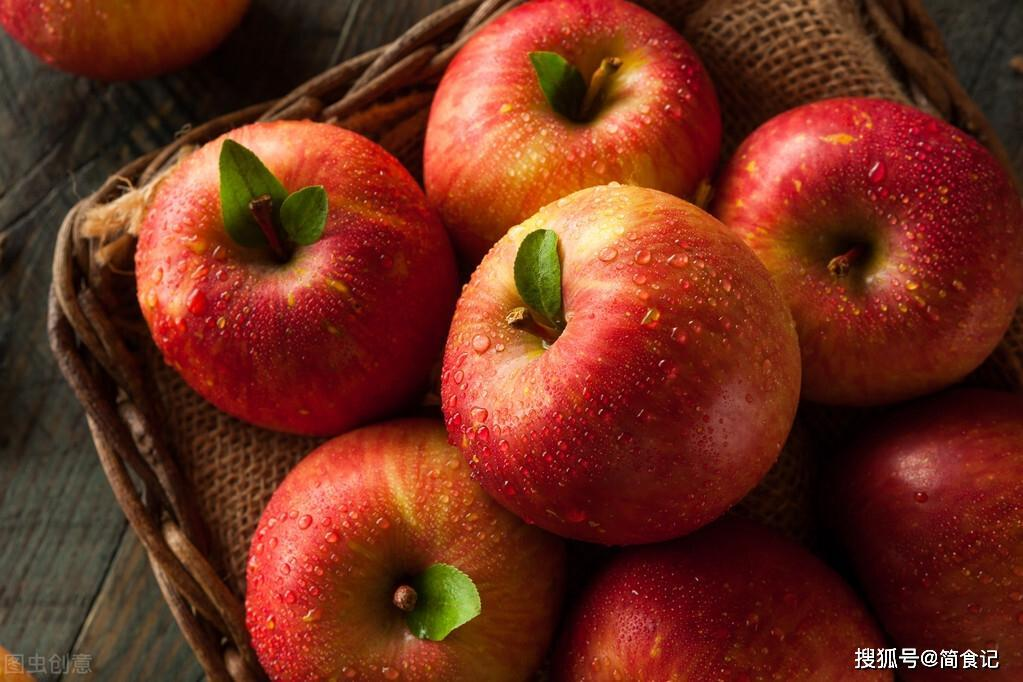apple: (434, 180, 803, 544), (138, 118, 453, 445), (714, 97, 1023, 402), (241, 416, 557, 680), (420, 1, 717, 259), (814, 387, 1023, 672), (552, 520, 892, 682)
